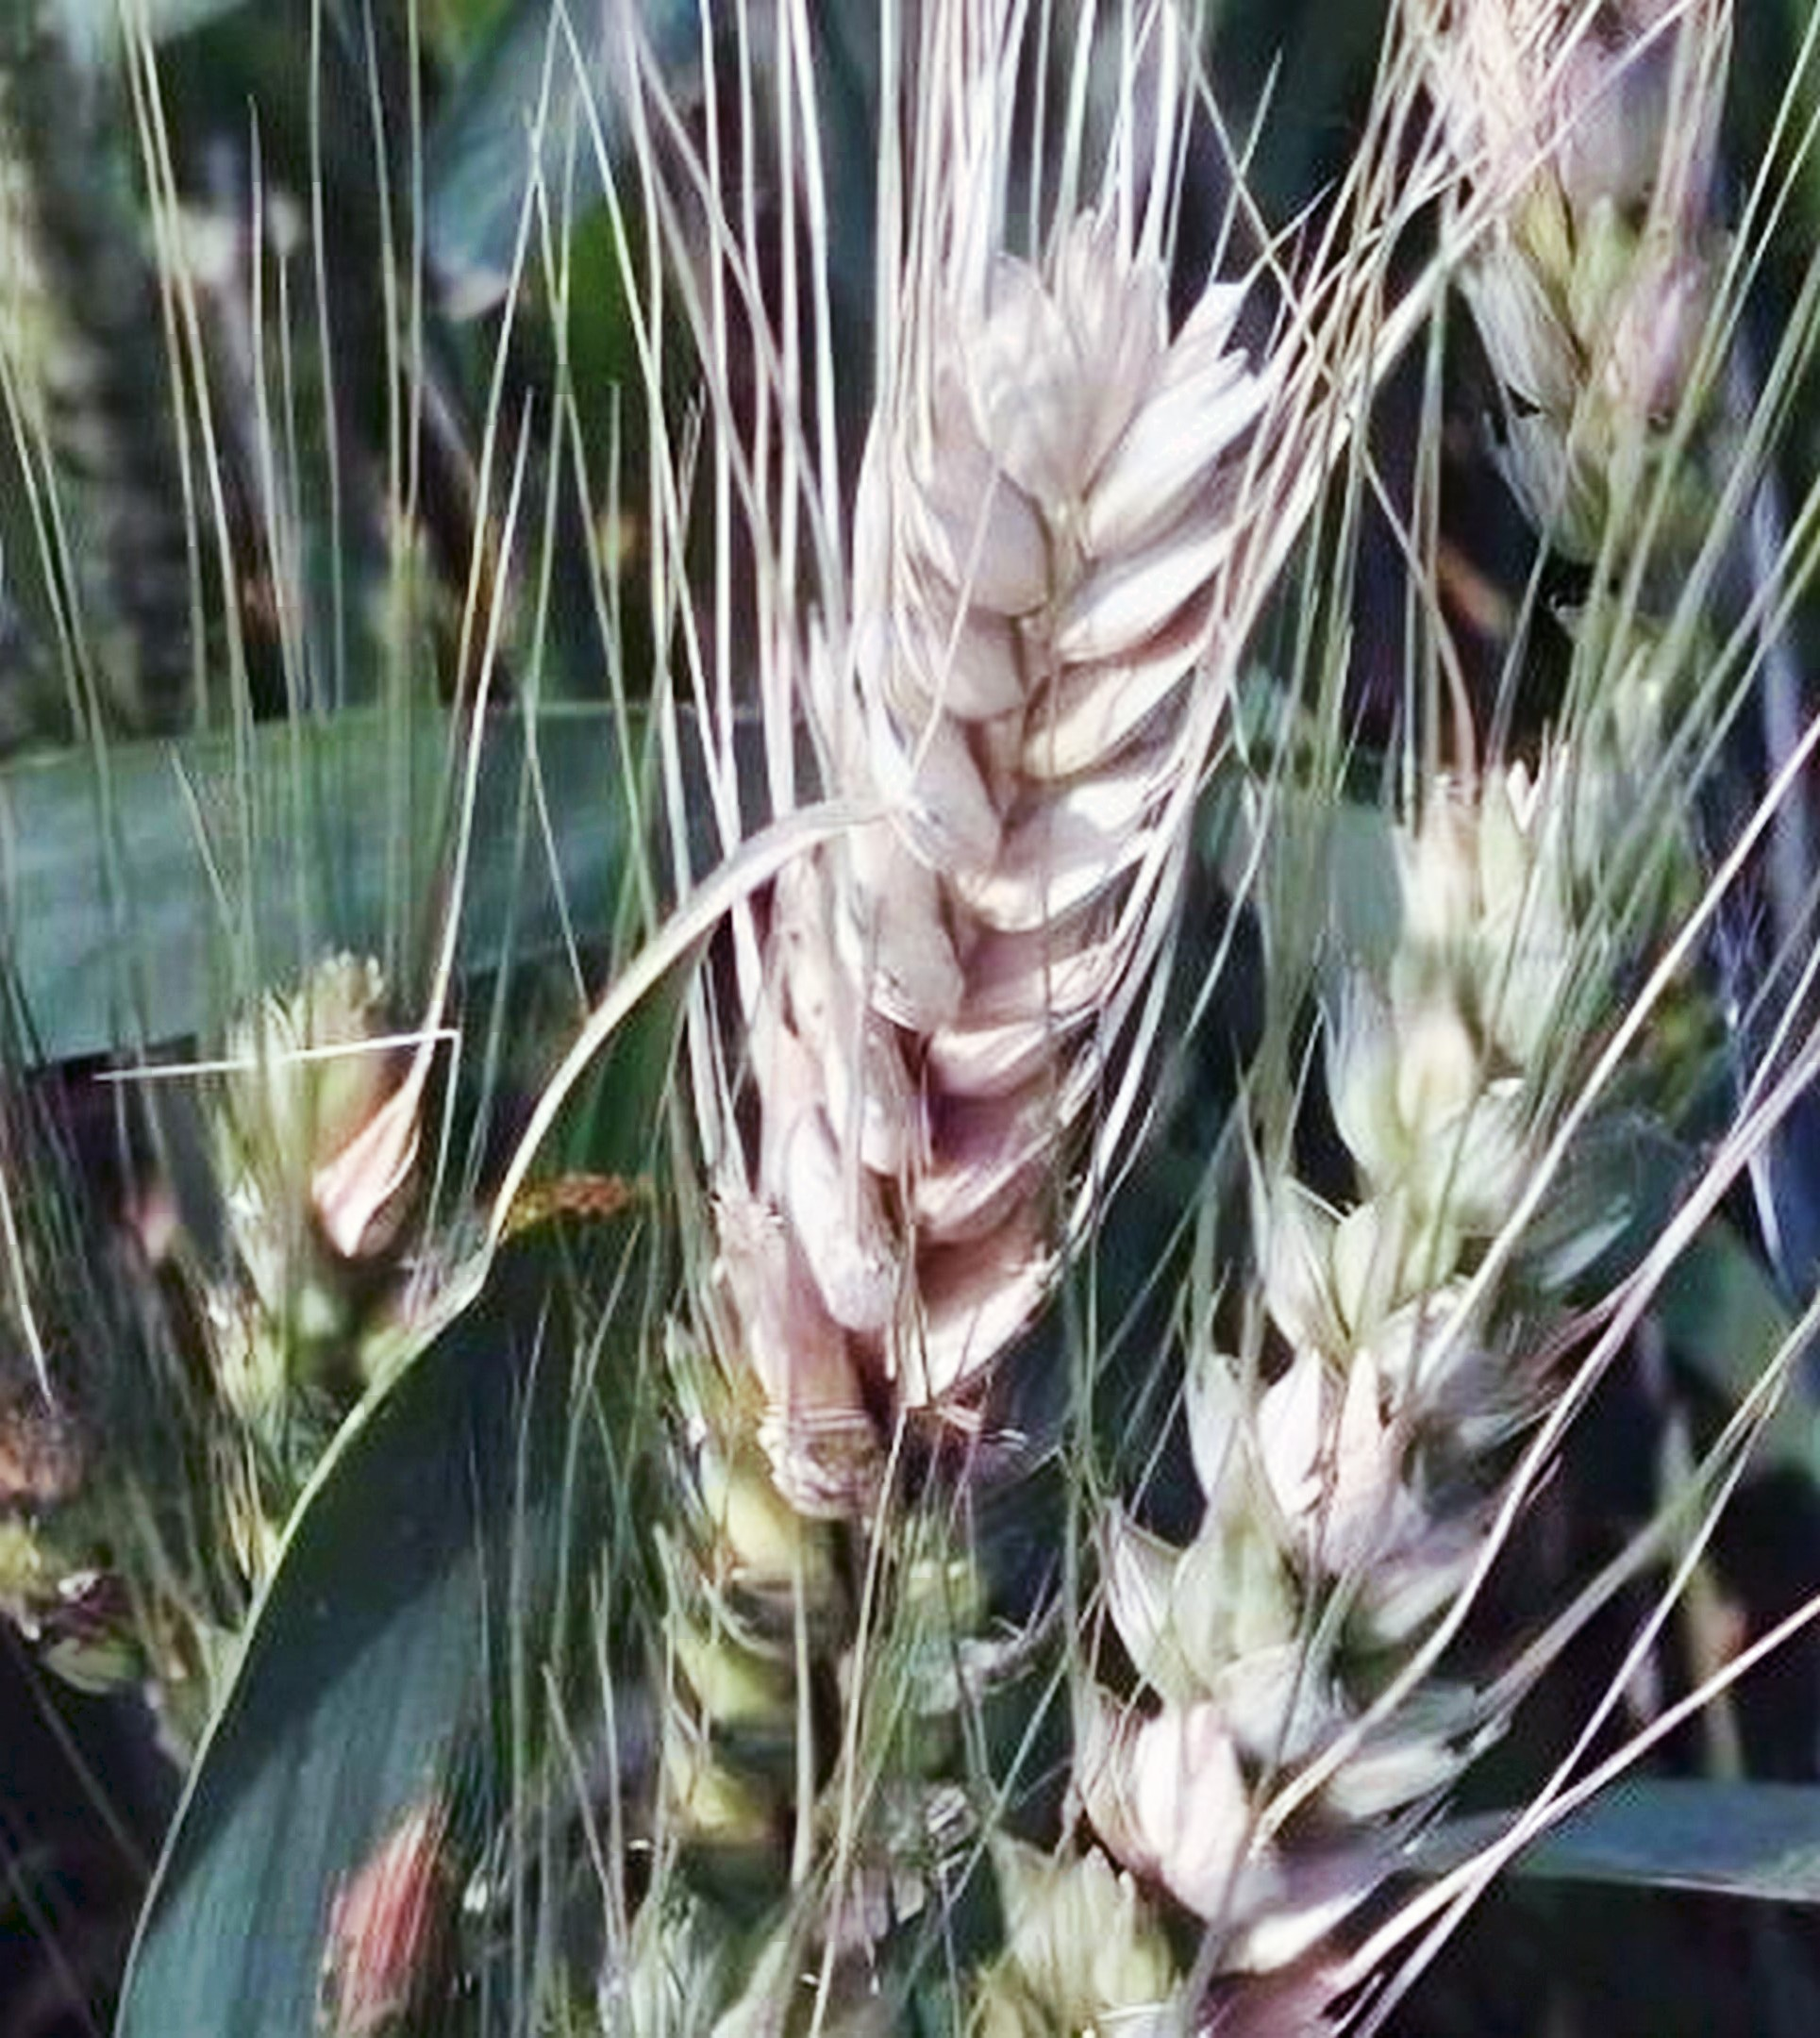Wheat scab: (662, 246, 1253, 1892)
